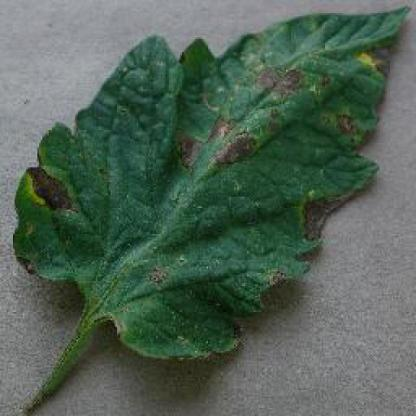Tomato_Blight: (18, 10, 414, 357)
